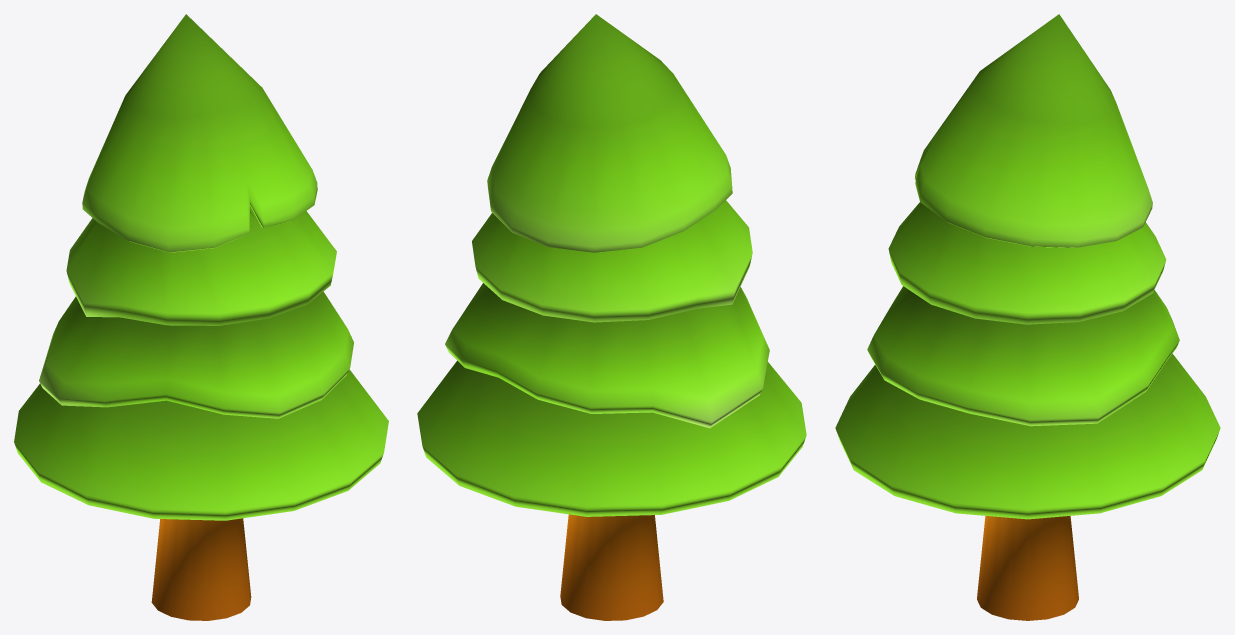
File: Cristmas_Tree4.fbx
3 renders of one model, left to right at view 1: azimuth 30°, elevation 25°; view 2: azimuth 150°, elevation 25°; view 3: azimuth 270°, elevation 25°, orthographic. The views are drawn at different scales.
Parts seen in each view (by area): view 1: Cristmas_Tree4; view 2: Cristmas_Tree4; view 3: Cristmas_Tree4.
Boxes of the visible parts, bbox=[...] form: Cristmas_Tree4: bbox=[14, 14, 388, 620]; Cristmas_Tree4: bbox=[417, 14, 806, 620]; Cristmas_Tree4: bbox=[835, 14, 1220, 620].
Bounding box in the file's own units: 198 × 332 × 198.
